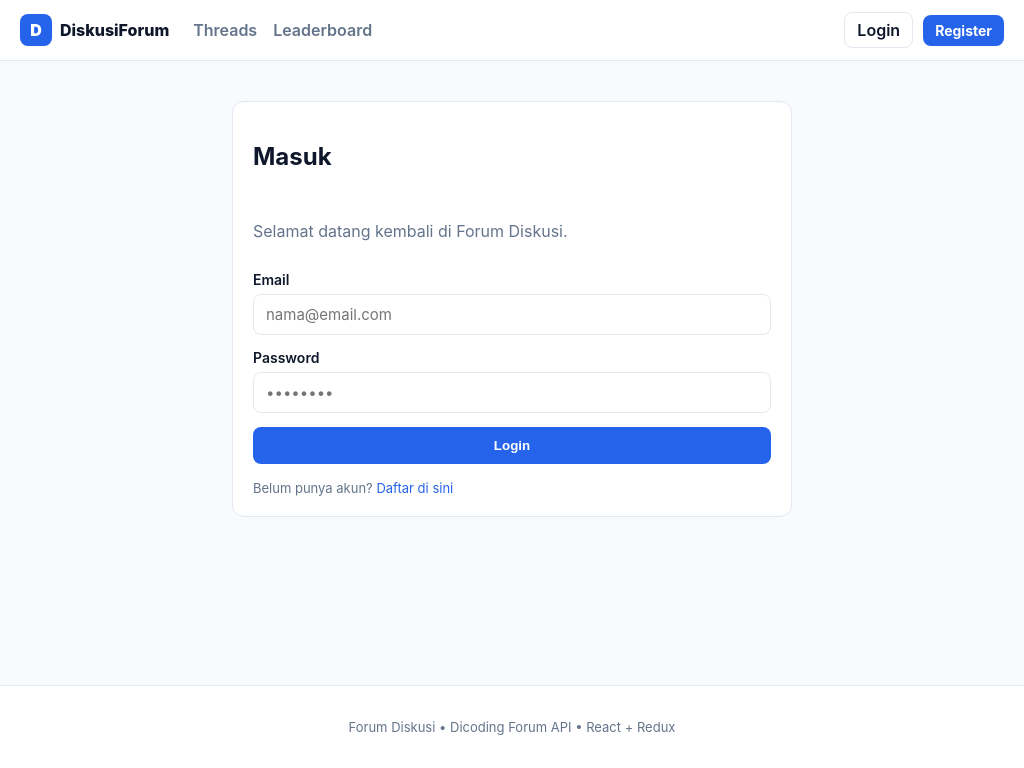
Test: Alur Login Aplikasi Forum Diskusi › berhasil login dan masuk beranda
Type "e2e@mail.com" into the field labelled "Email".
click(512, 315); type("e2e@mail.com")  # box [253,294,771,335]
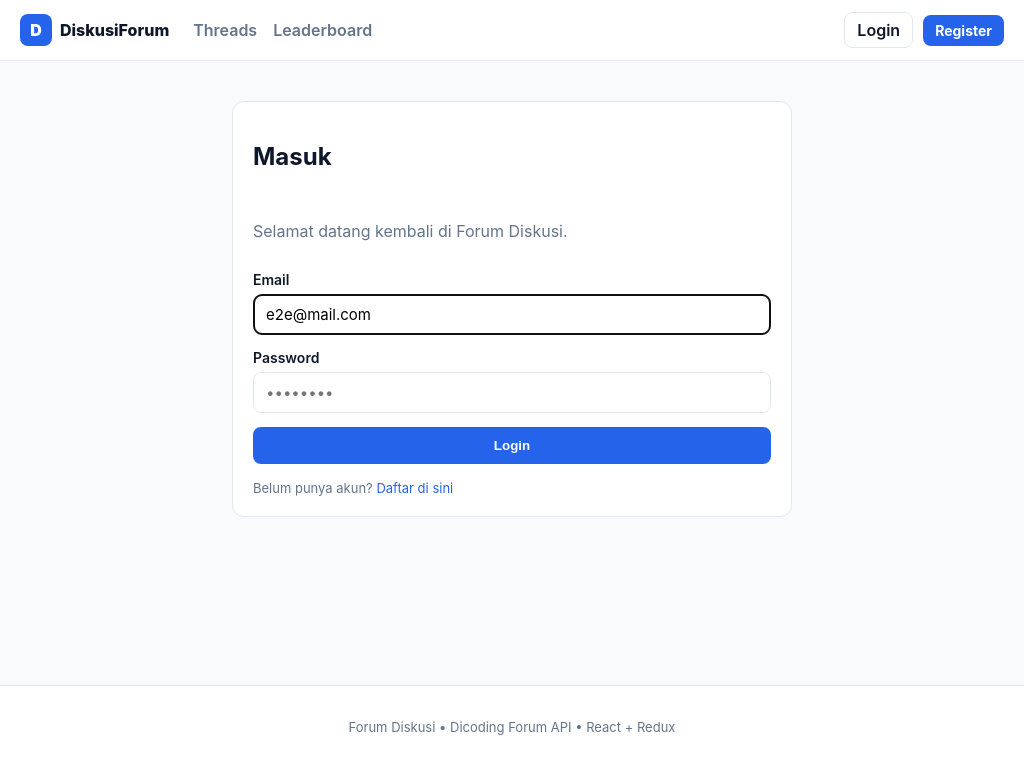
Type "secret123" into the password field labelled "Password".
click(512, 393); type("secret123")  # box [253,372,771,413]
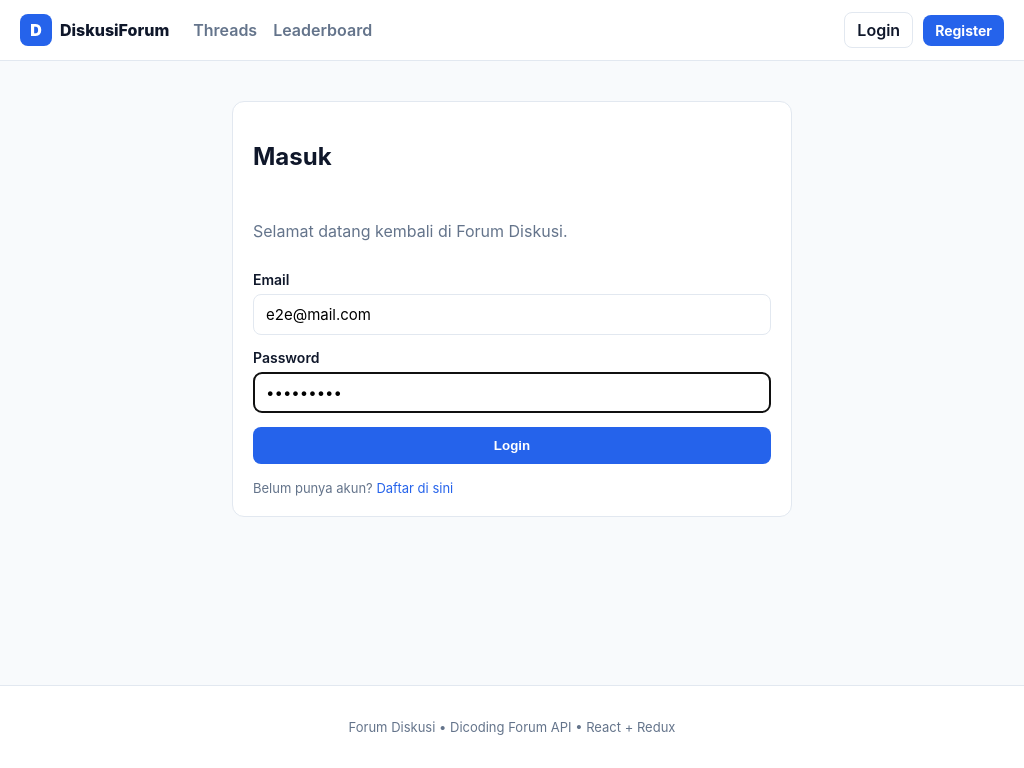
Click the button "Login".
click(512, 446)  # box [253,427,771,464]
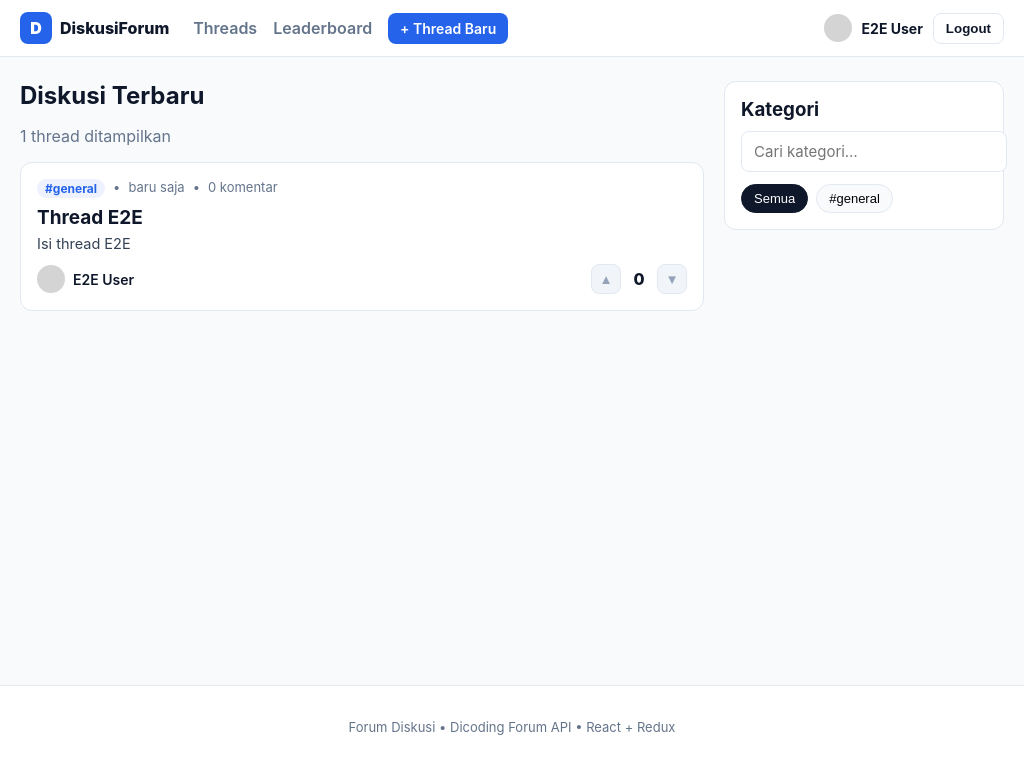
Expected: the heading "Diskusi Terbaru" is shown, [20,81,204,110]
Expected: the link "Thread E2E" is shown, [37,206,143,229]
